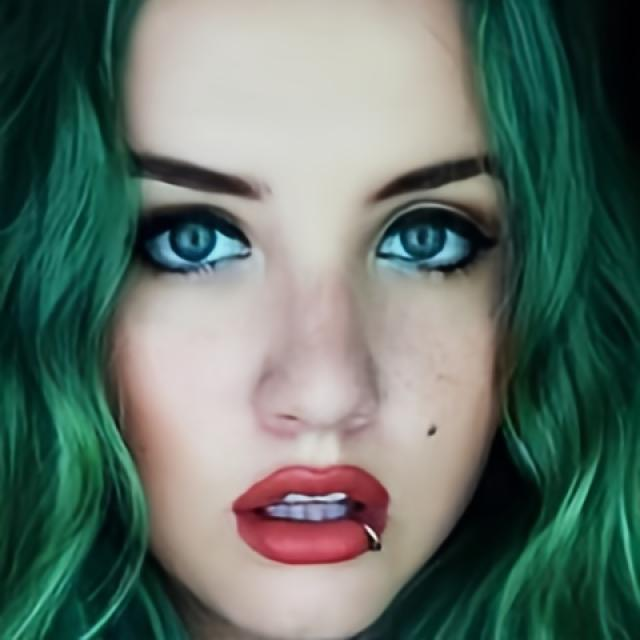neutral: (102, 0, 512, 640)
